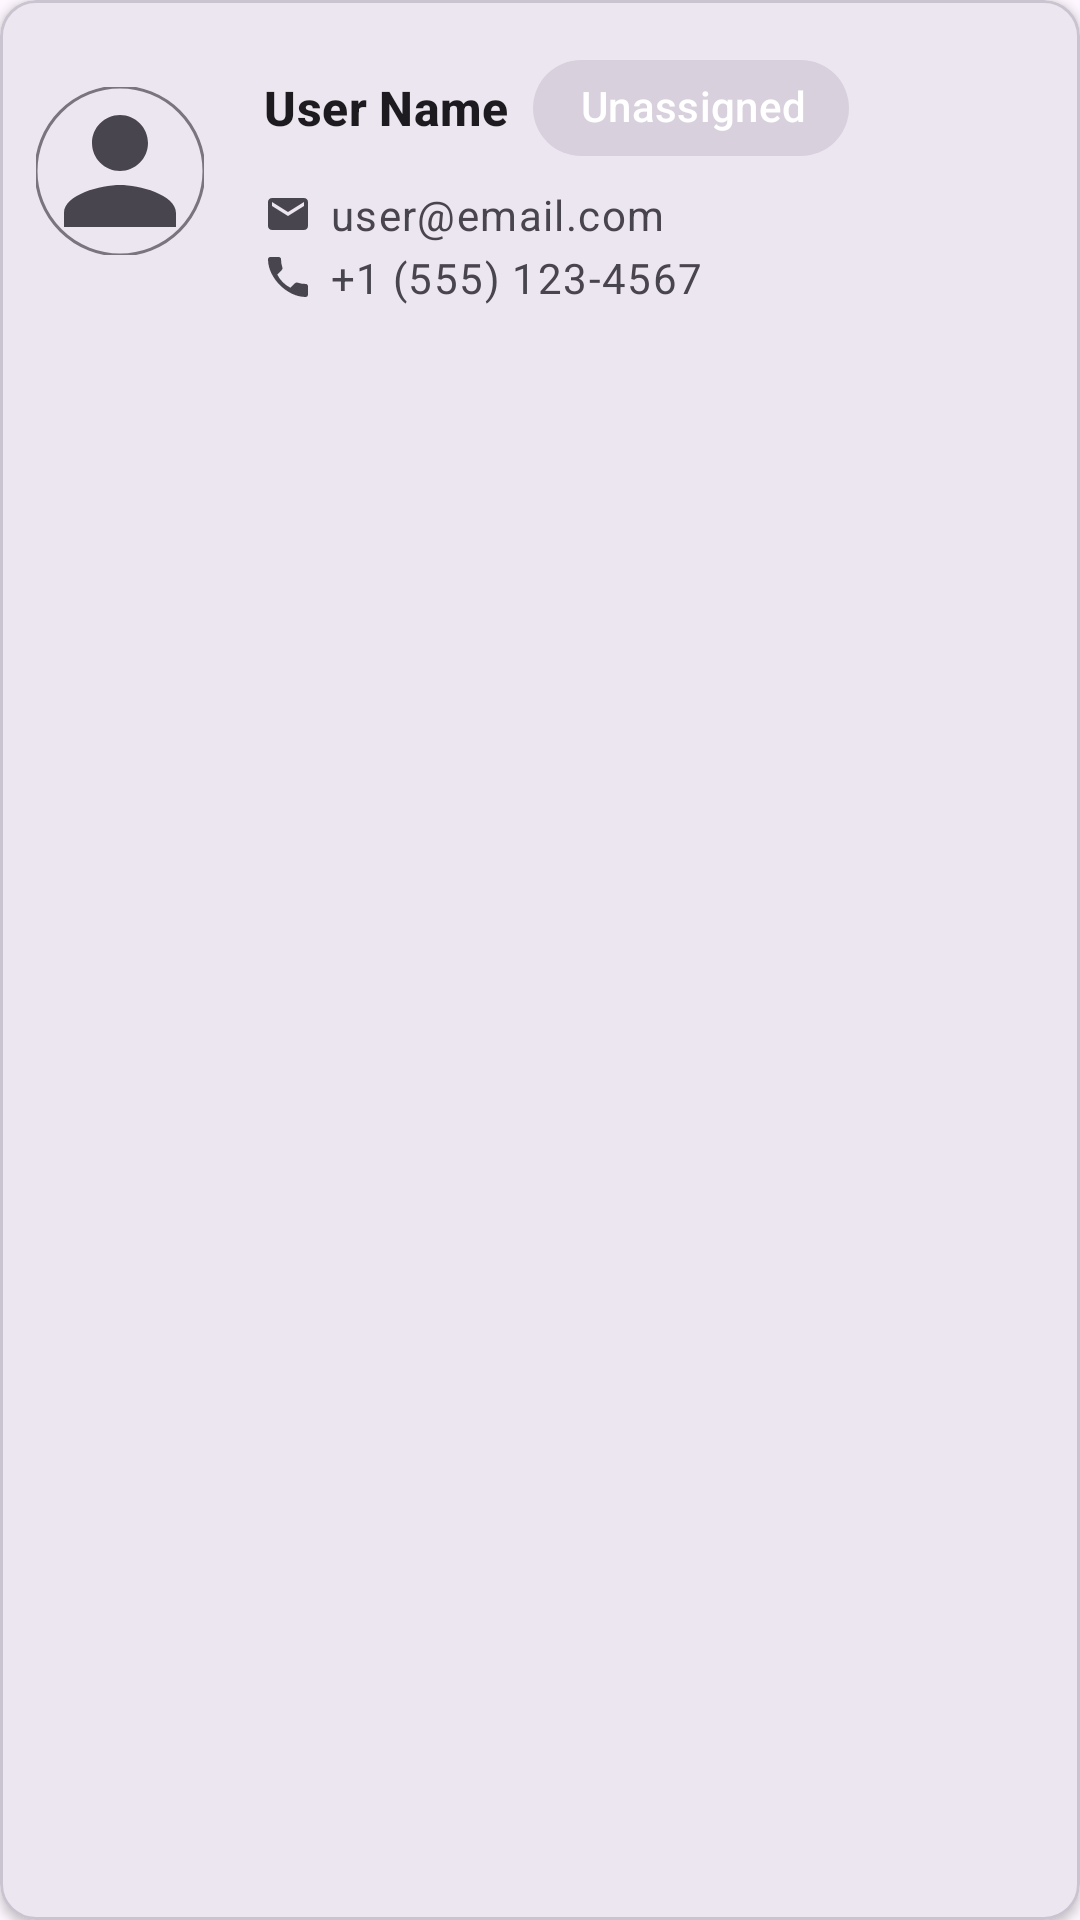

Named icons in this screenshot (1080px×1920px) and their centers, (x,y):
phone: (288,277)
